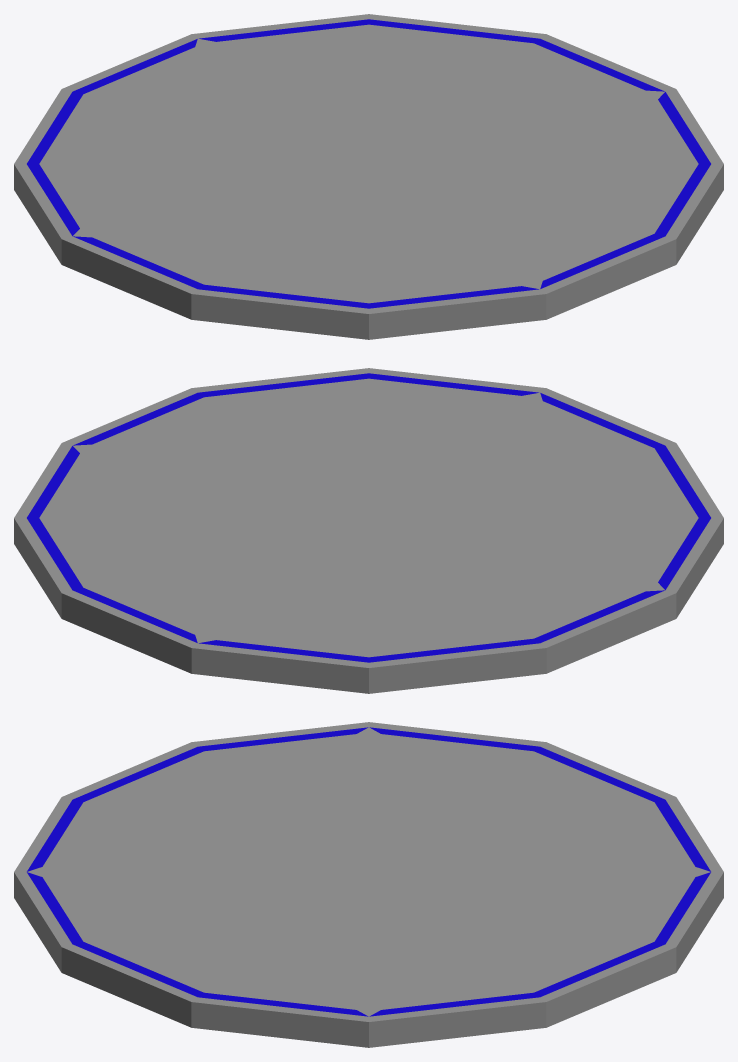
3 renders of one model, top to bottom at view 1: azimuth 30°, elevation 25°; view 2: azimuth 150°, elevation 25°; view 3: azimuth 270°, elevation 25°, orthographic.
Parts seen in each view (by area): view 1: Node; view 2: Node; view 3: Node.
Part boxes in pixels (x1,y1,x2,y2): Node: (14,14,723,339); Node: (14,368,723,693); Node: (14,722,723,1047).
Bounding box in the file's own units: 419 × 16.86 × 419.
